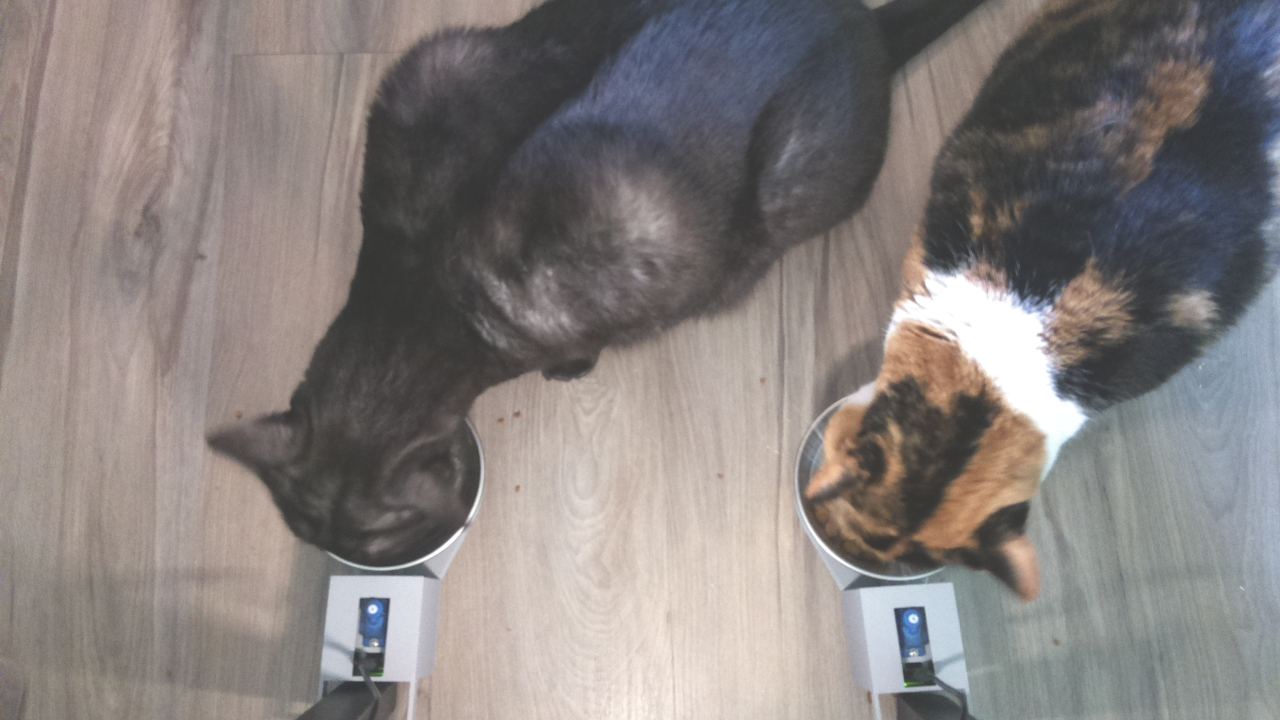bella_eating: (789, 293, 1090, 612)
saki_eating: (202, 328, 505, 584)
